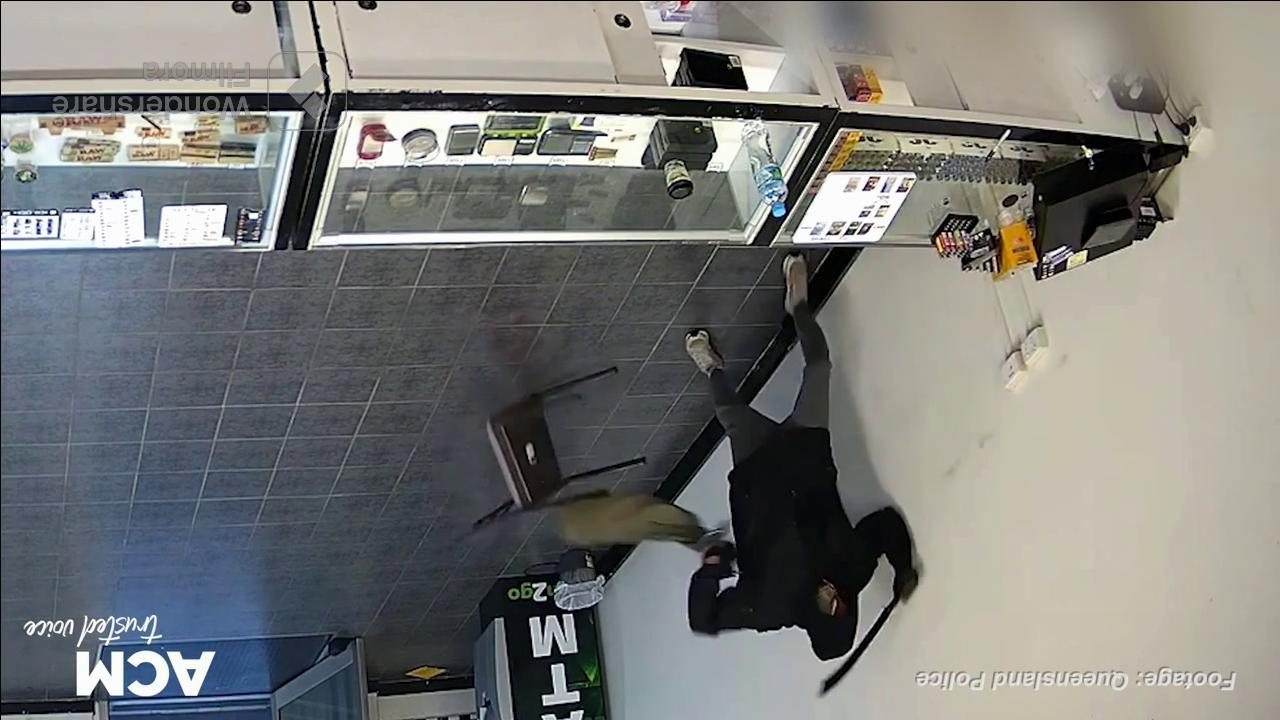melee: (816, 587, 910, 702)
